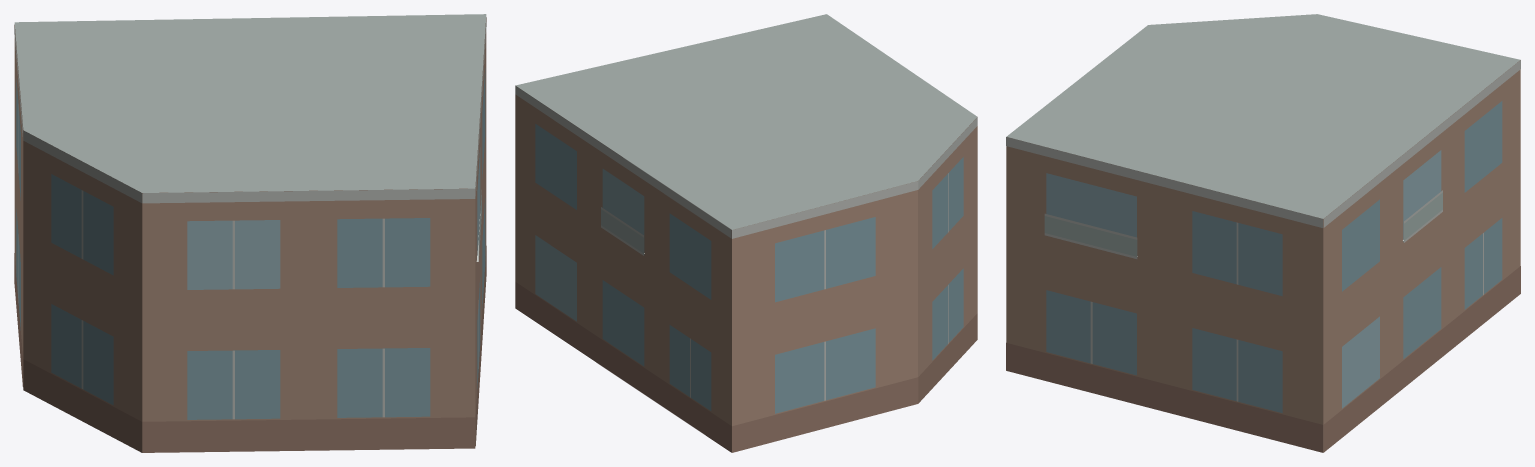
Rendered from survey-upis-32508832.glb.
The picture shows the model from 3 angles, left to right: view 1: azimuth 30°, elevation 25°; view 2: azimuth 150°, elevation 25°; view 3: azimuth 270°, elevation 25°; orthographic projection. The views are drawn at different scales.
Parts seen in each view (by area): view 1: survey-upis-32508832.tmp; view 2: survey-upis-32508832.tmp; view 3: survey-upis-32508832.tmp.
Part boxes in pixels (x1,y1,x2,y2): survey-upis-32508832.tmp: (14,14,486,452); survey-upis-32508832.tmp: (515,14,977,452); survey-upis-32508832.tmp: (1006,14,1520,452).
Bounding box in the file's own units: 11.47 × 6.1 × 12.17.
